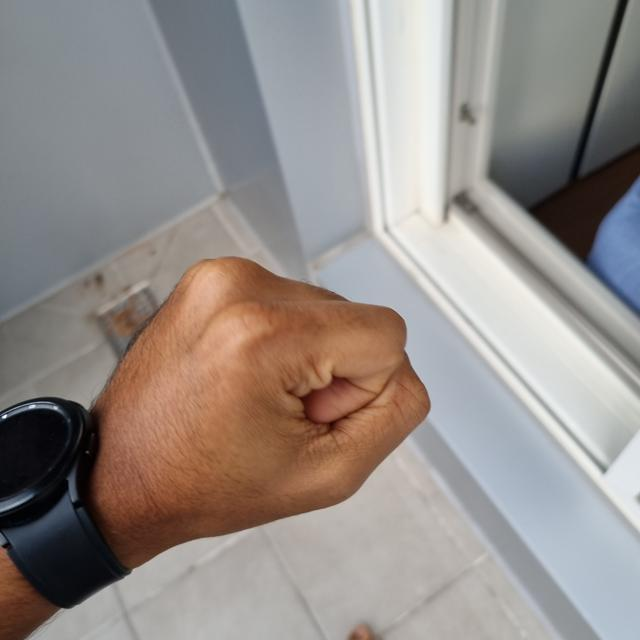Rock: (93, 257, 430, 555)
